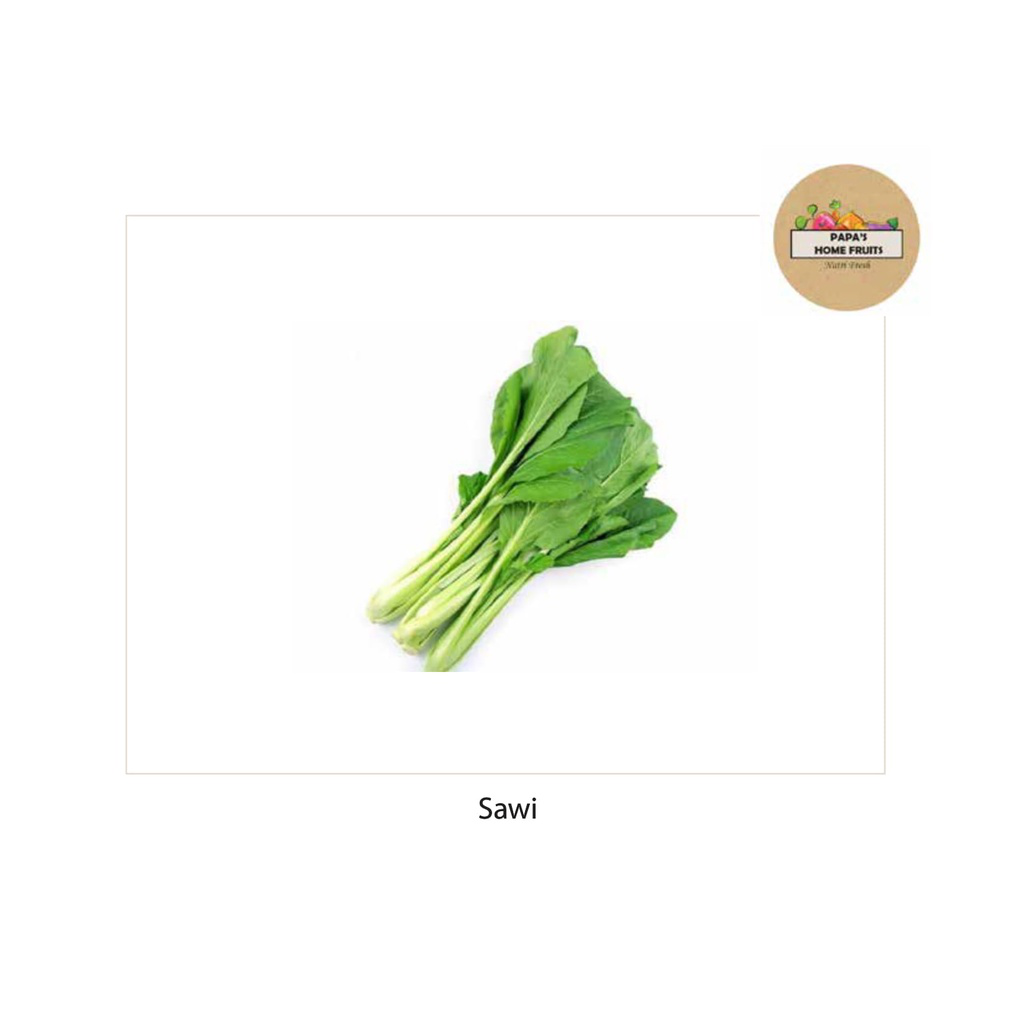Sawi: (343, 305, 693, 679)
